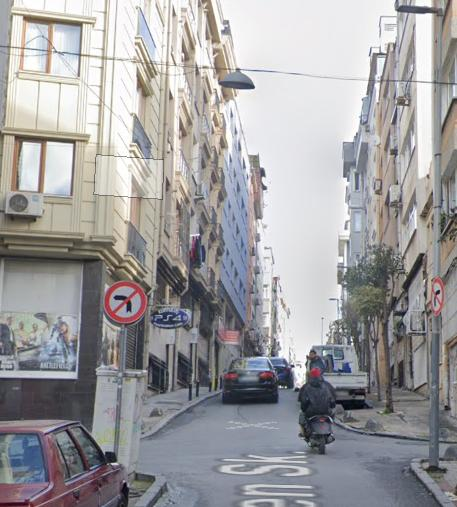leftturnsareforbidden: (105, 284, 146, 322)
